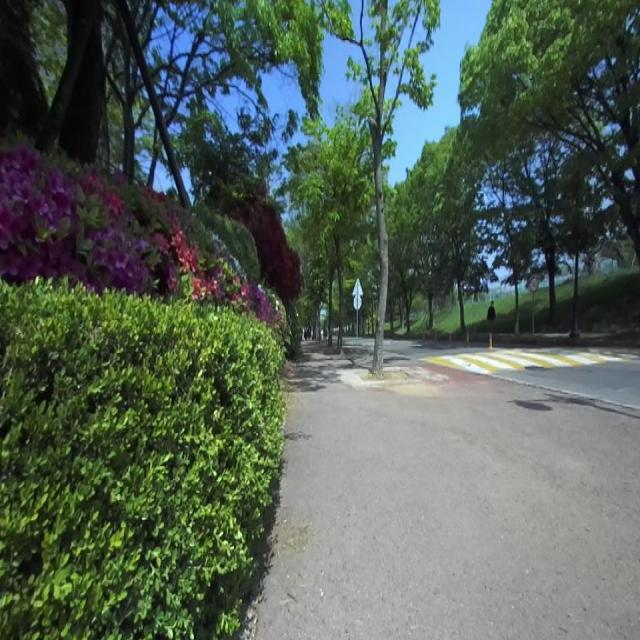sidewalk: (250, 343, 640, 639)
